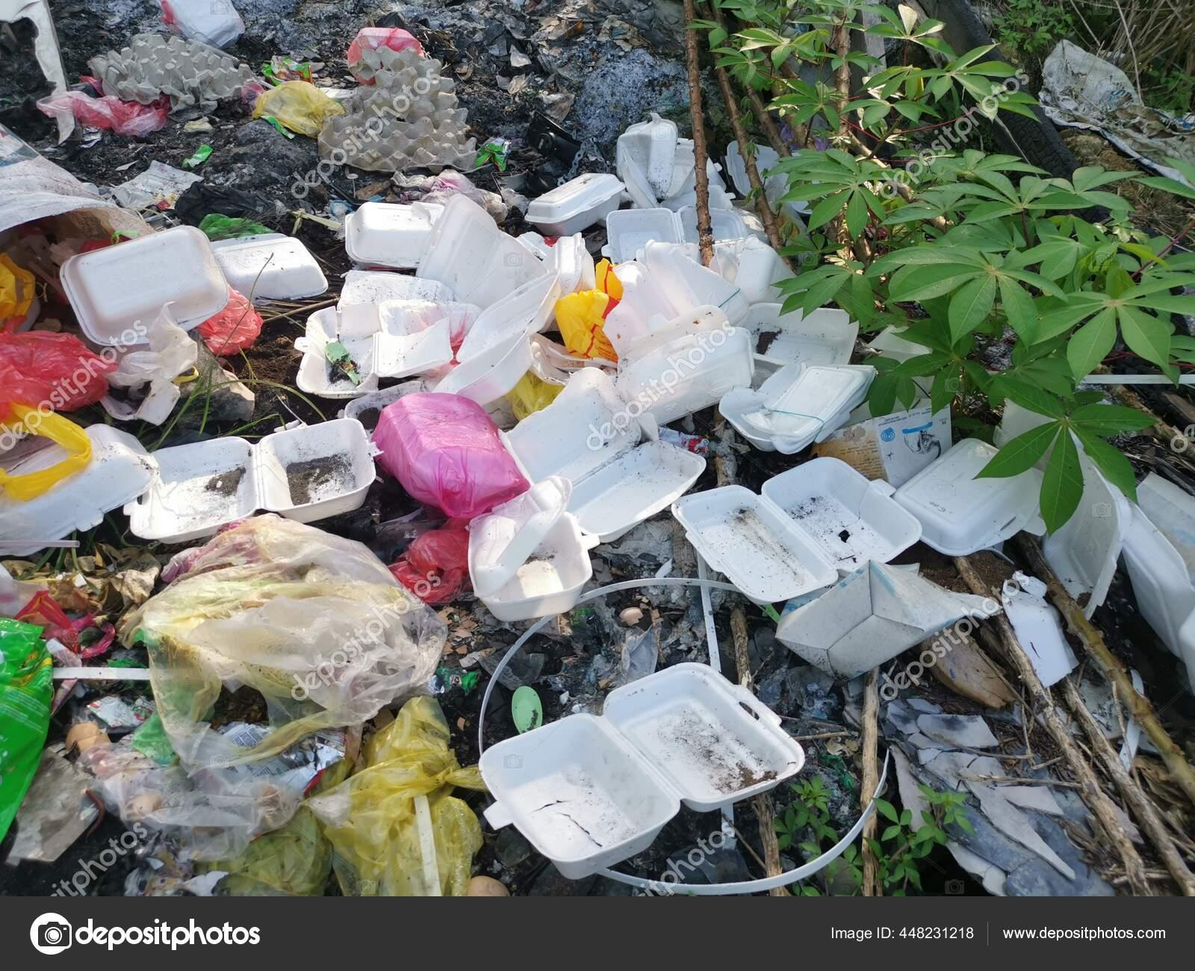trash: (10, 226, 439, 884)
